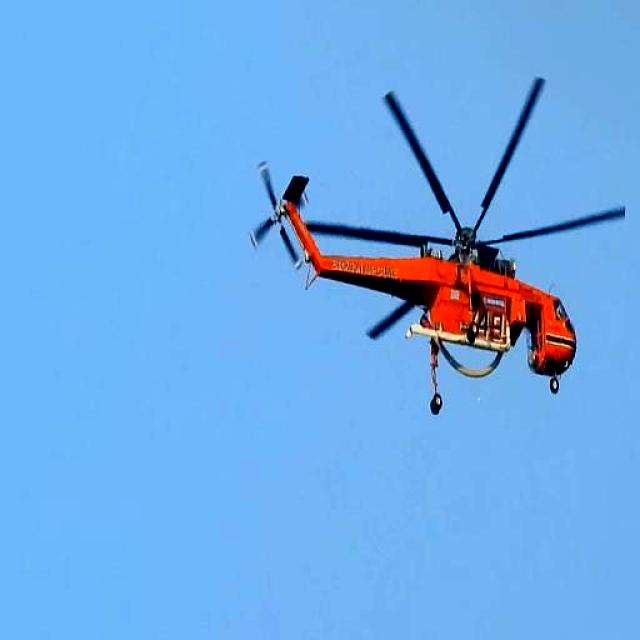drone: (252, 62, 640, 426)
